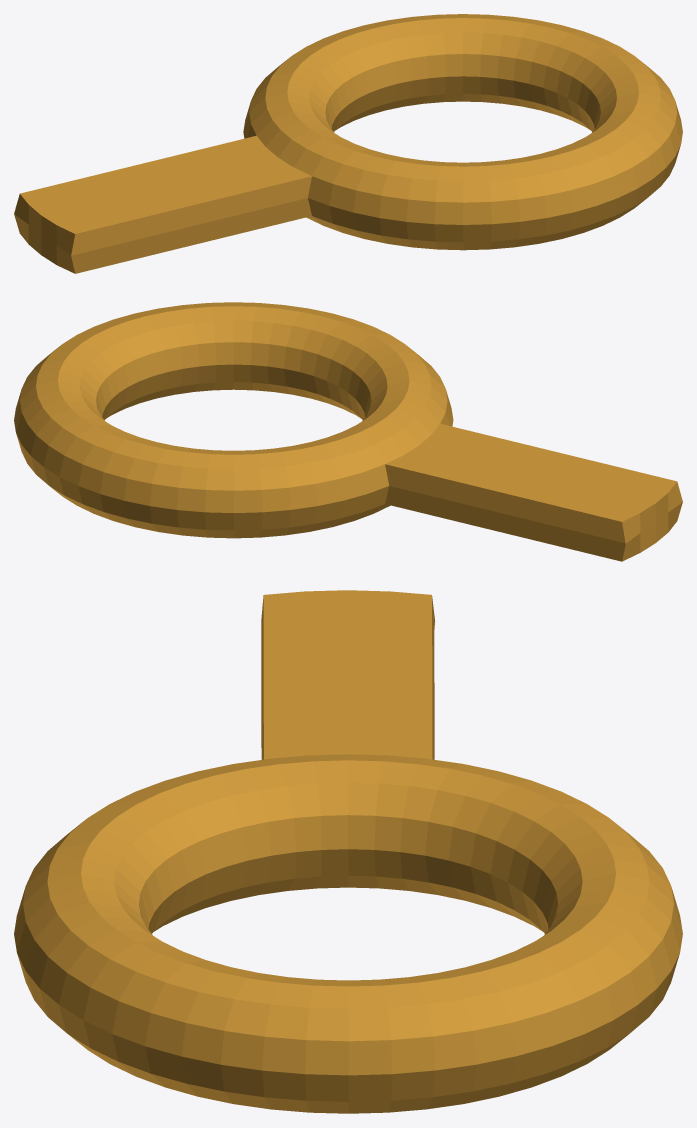
File: keypart1.fbx
3 views of the same model, one above another, from view 1: azimuth 30°, elevation 25°; view 2: azimuth 150°, elevation 25°; view 3: azimuth 270°, elevation 25° (orthographic). The views are drawn at different scales.
Visible parts, largest first — view 1: Torus; view 2: Torus; view 3: Torus.
Part boxes in pixels (bbox=[...]): Torus: bbox=[14, 14, 682, 273]; Torus: bbox=[14, 302, 682, 561]; Torus: bbox=[14, 590, 682, 1113].
Bounding box in the file's own units: 29.67 × 3.69 × 18.44.
